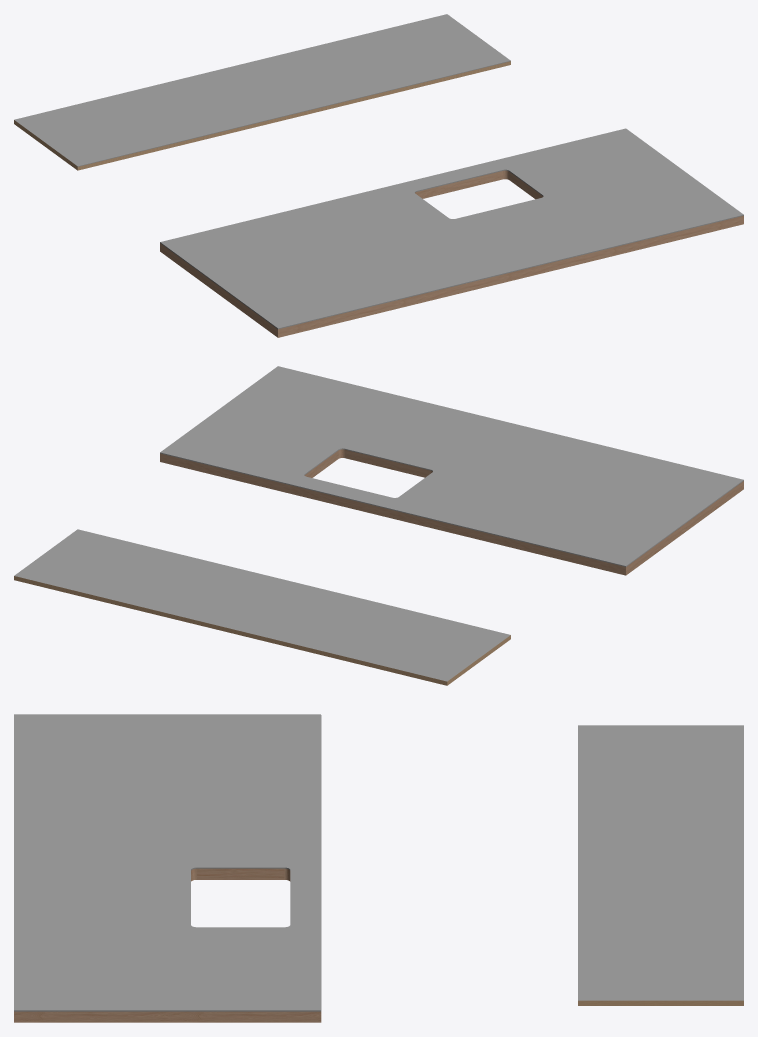
File: CounterTopSteel.glb
3 renders of one model, top to bottom at view 1: azimuth 30°, elevation 25°; view 2: azimuth 150°, elevation 25°; view 3: azimuth 270°, elevation 25°, orthographic. The views are drawn at different scales.
Parts seen in each view (by area): view 1: Counter Top Steel; view 2: Counter Top Steel; view 3: Counter Top Steel.
Boxes of the visible parts, x1,y1,x2,y2 form: Counter Top Steel: [14, 14, 743, 337]; Counter Top Steel: [14, 366, 743, 685]; Counter Top Steel: [14, 714, 743, 1022].
Size of the model in its own units: 1.14 by 0.0222 by 1.19.
Materials: 3 (2 with a texture image).
